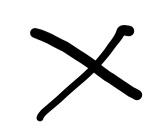mult: (29, 27, 143, 119)
